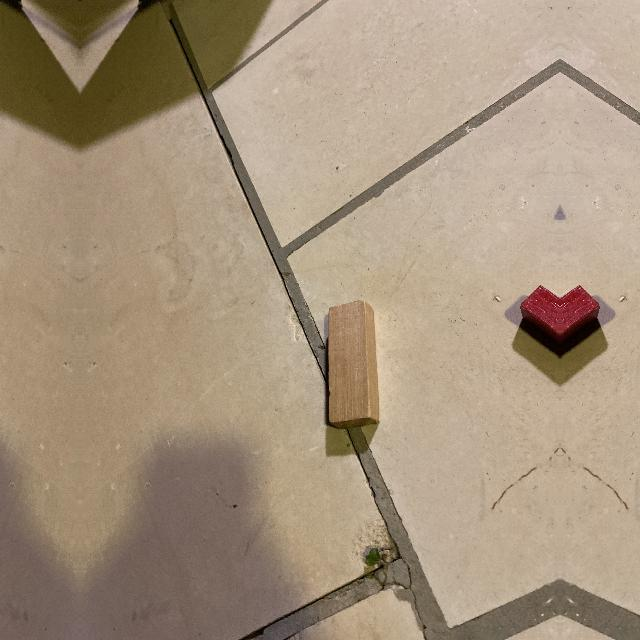jenga: (327, 306, 375, 426)
red block: (520, 287, 560, 360), (560, 287, 600, 360)
